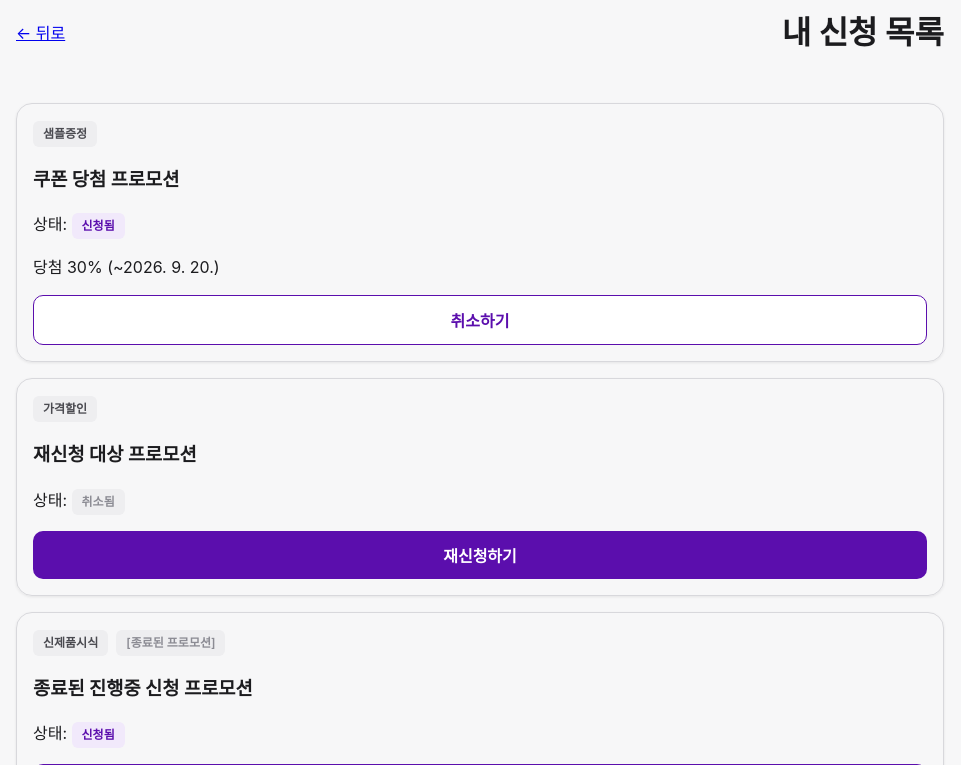
Scenario: reapplying when the coupon event has since closed shows a closed message on that card
This screenshot has width=961, height=765.
Check: the text "재신청 대상 프로모션" is shown, box [33,443,197,466]
Click the button "재신청하기" at (480, 555), box [33,531,927,579]
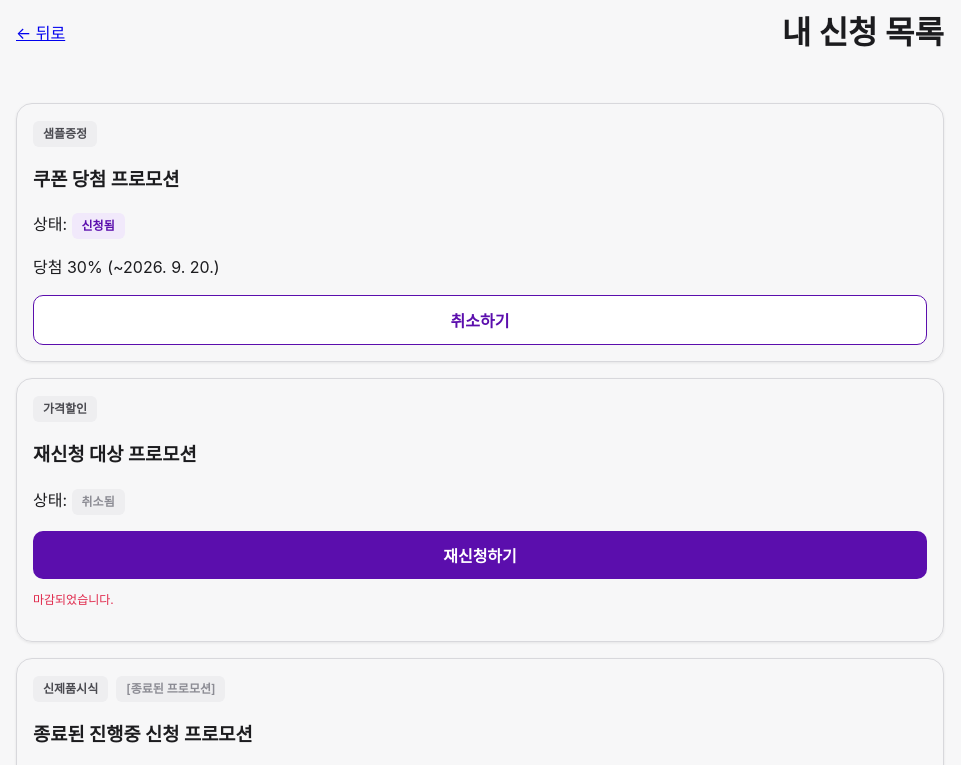
Check: the text "취소됨" is shown, box [72,489,125,515]
Check: the text "마감되었습니다." is shown, box [33,592,114,607]
